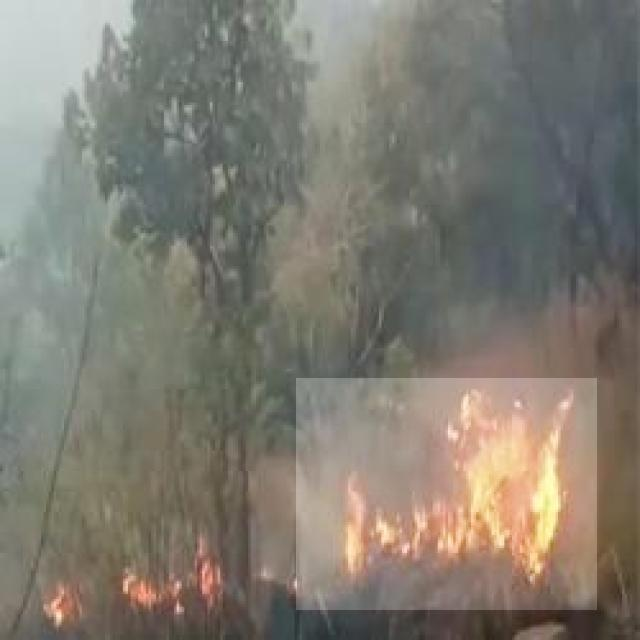Fire: (296, 378, 597, 610)
